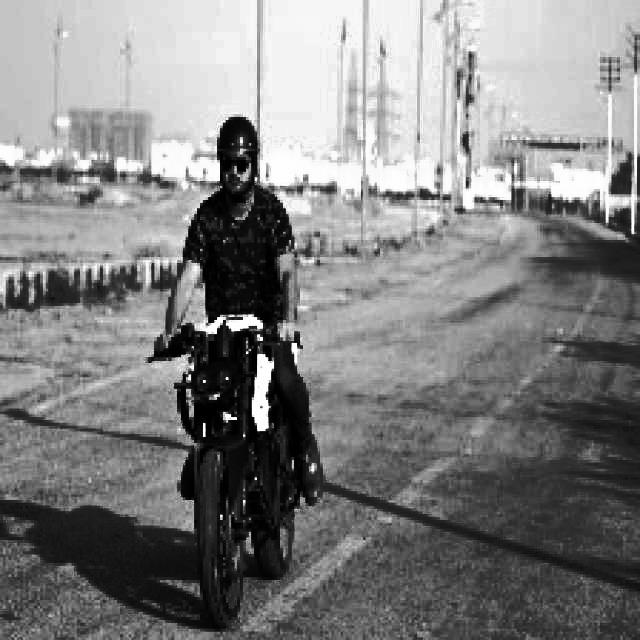Bike: (171, 322, 309, 618)
